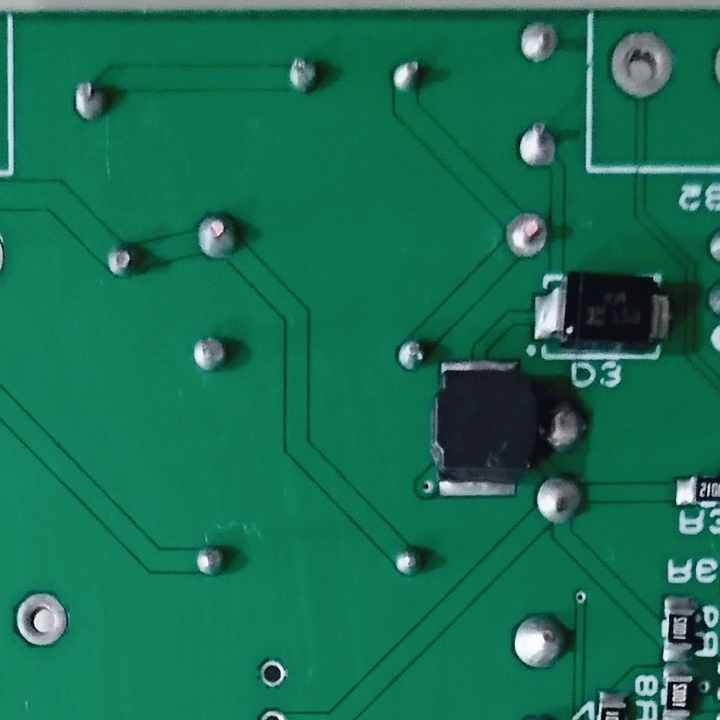F: (604, 25, 678, 100), (10, 585, 73, 653), (513, 118, 566, 174), (503, 208, 551, 258), (515, 18, 563, 67), (253, 654, 293, 692)
